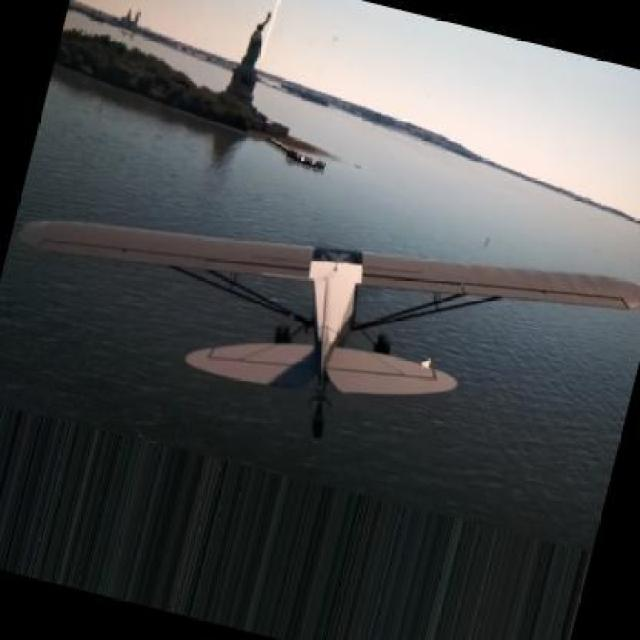iha: (9, 198, 640, 439)
